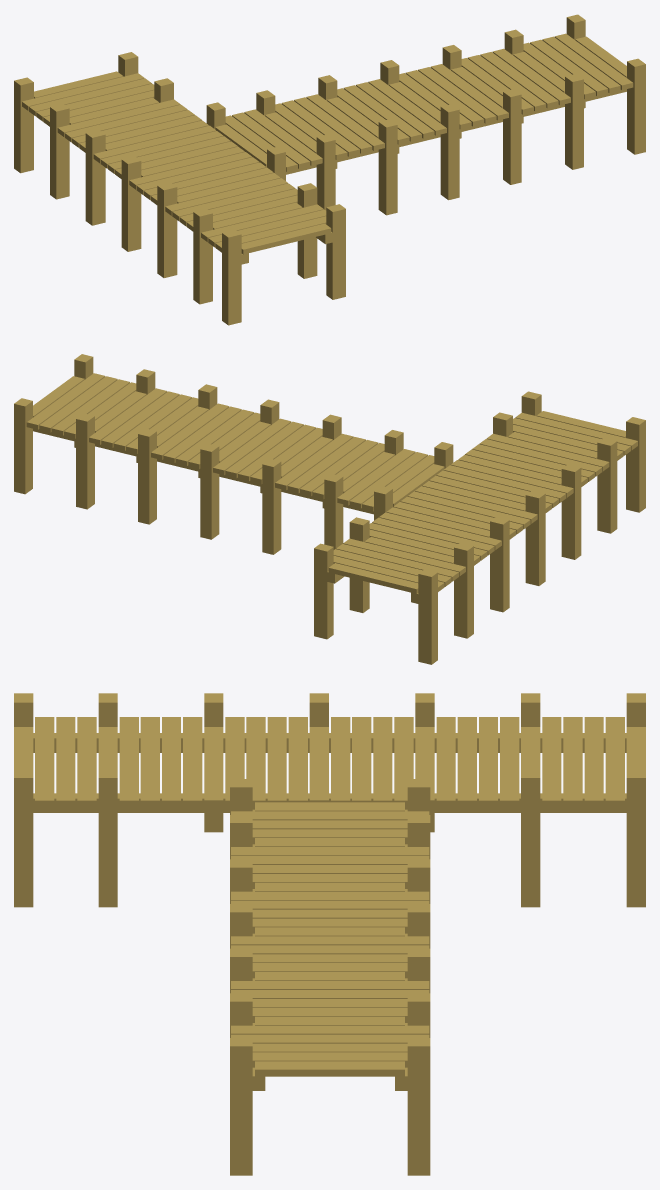
File: dock.fbx
3 views of the same model, one above another, from view 1: azimuth 30°, elevation 25°; view 2: azimuth 150°, elevation 25°; view 3: azimuth 270°, elevation 25° (orthographic). The views are drawn at different scales.
Visible parts, largest first — view 1: Plane; view 2: Plane; view 3: Plane.
Part boxes in pixels (box(x1,y1,x2,y2)): Plane: box(14, 14, 645, 325); Plane: box(14, 354, 645, 664); Plane: box(14, 693, 645, 1175).
Size of the model in its own units: 844 by 144 by 638.
